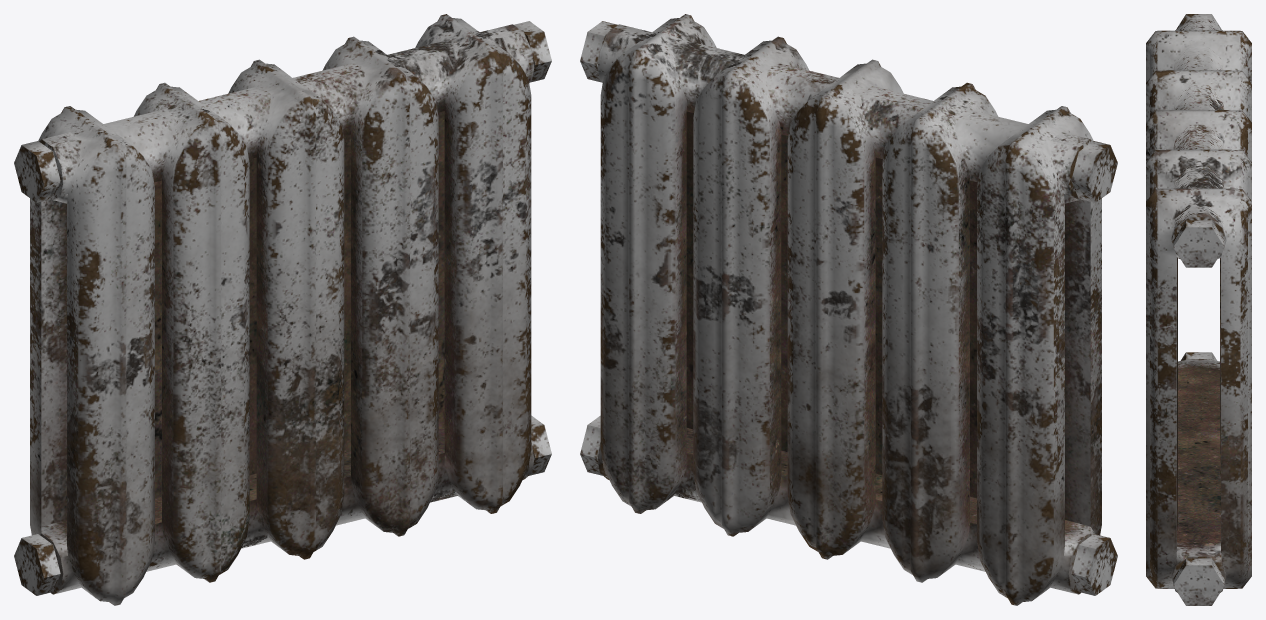
The model's file is LQ radiator.fbx.
3 views of the same model, side by side, from view 1: azimuth 30°, elevation 25°; view 2: azimuth 150°, elevation 25°; view 3: azimuth 270°, elevation 25° (orthographic). The views are drawn at different scales.
Visible parts, largest first — view 1: Plane004_01 - Default_0; view 2: Plane004_01 - Default_0; view 3: Plane004_01 - Default_0.
Boxes of the visible parts, x1,y1,x2,y2 form: Plane004_01 - Default_0: (14, 14, 551, 605); Plane004_01 - Default_0: (580, 14, 1117, 605); Plane004_01 - Default_0: (1146, 14, 1251, 605).
Size of the model in its own units: 109 by 94.69 by 22.83.
1 material, 1 textured.
